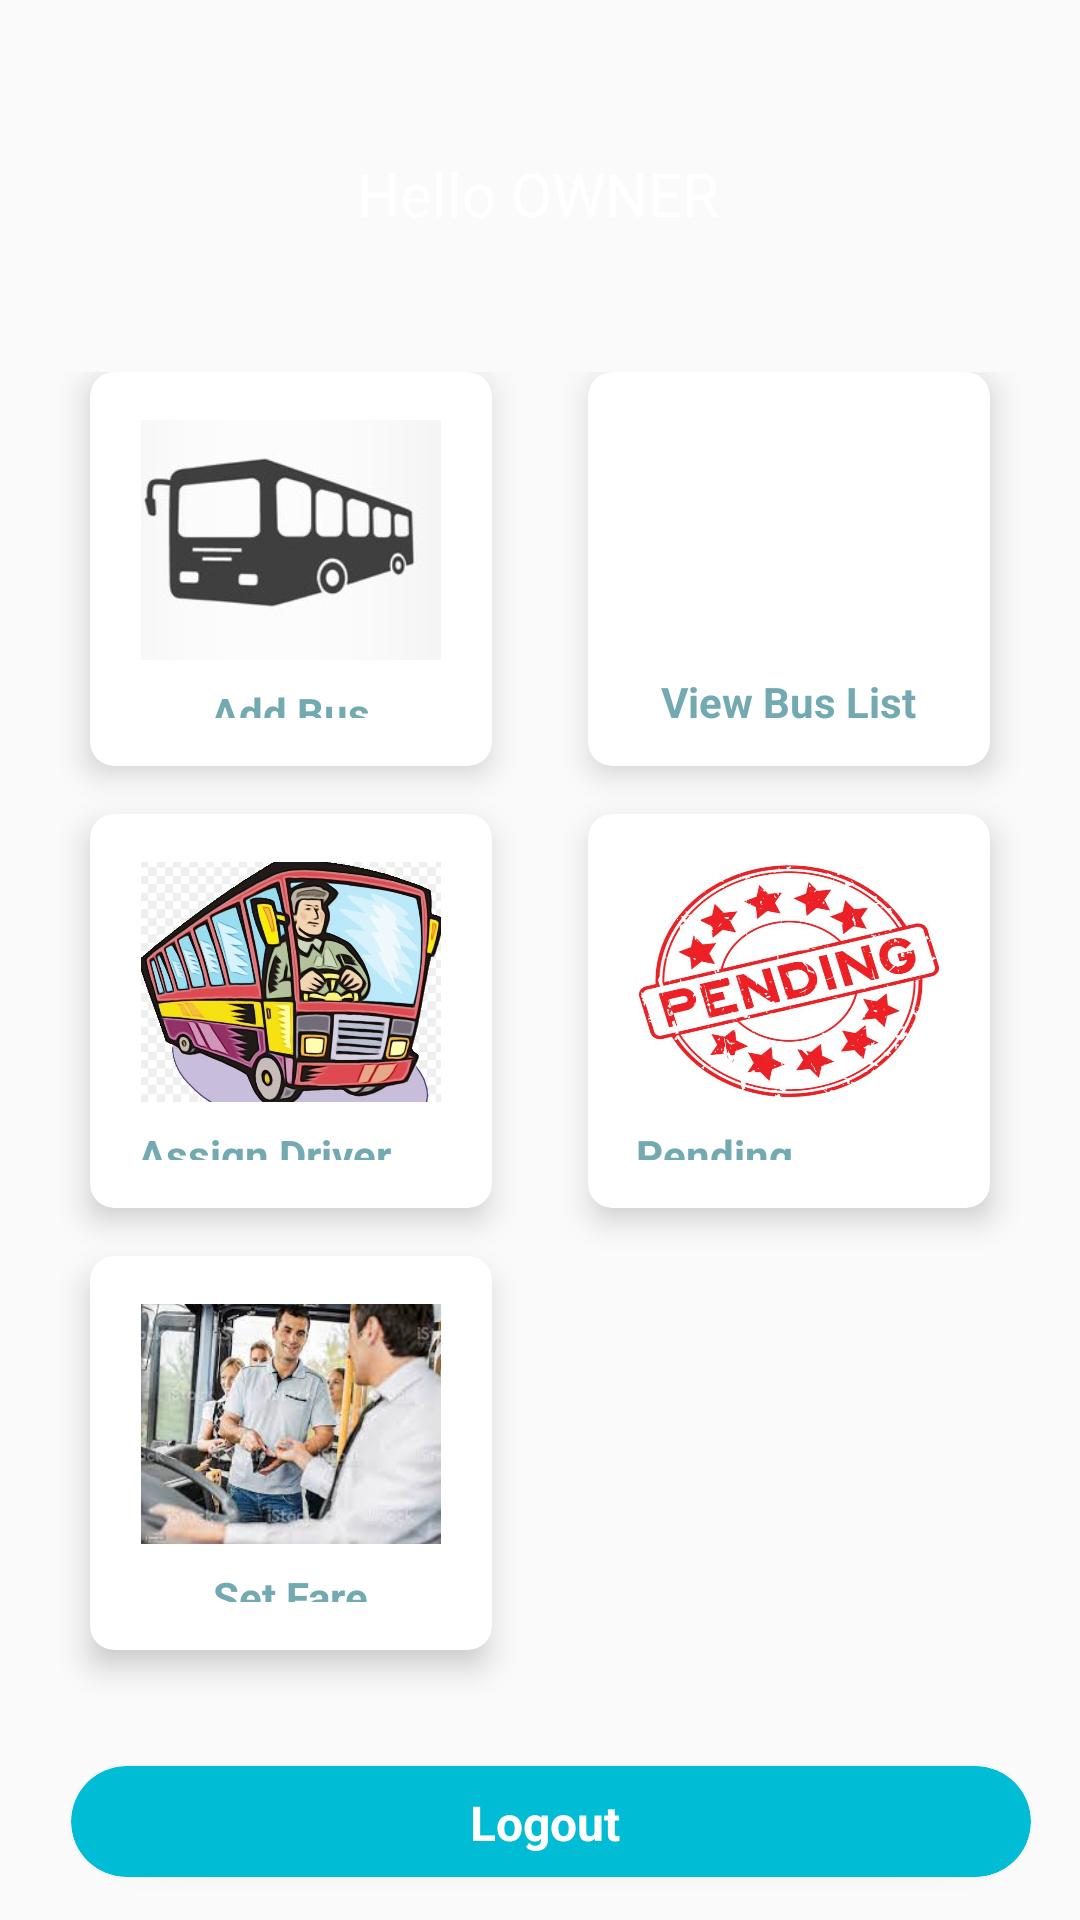

Screen size 1080px×1920px. Icon name, then its center in pixels as (x,y):
bus driver: (291,982)
